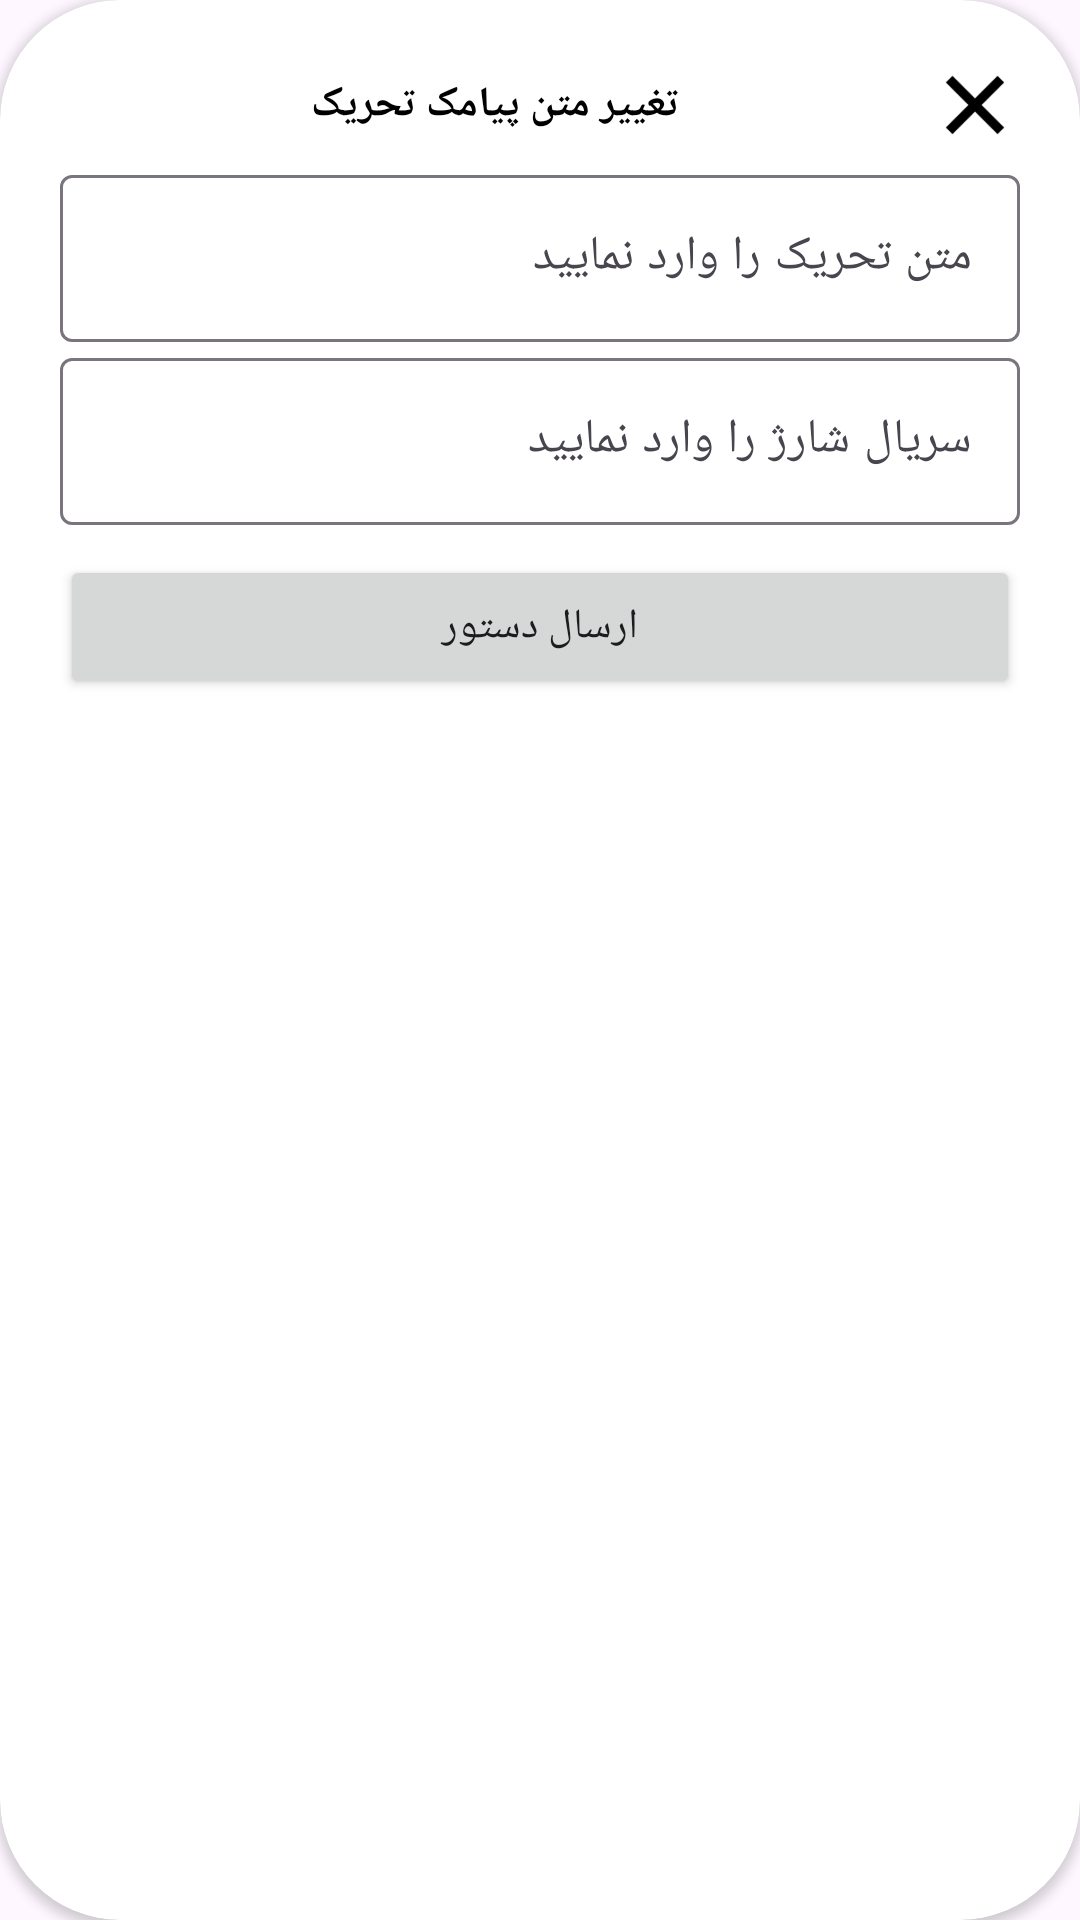

Icon click points for this 1080w x 1920h phone screenshot, format (x,y):
close: (975,105)
